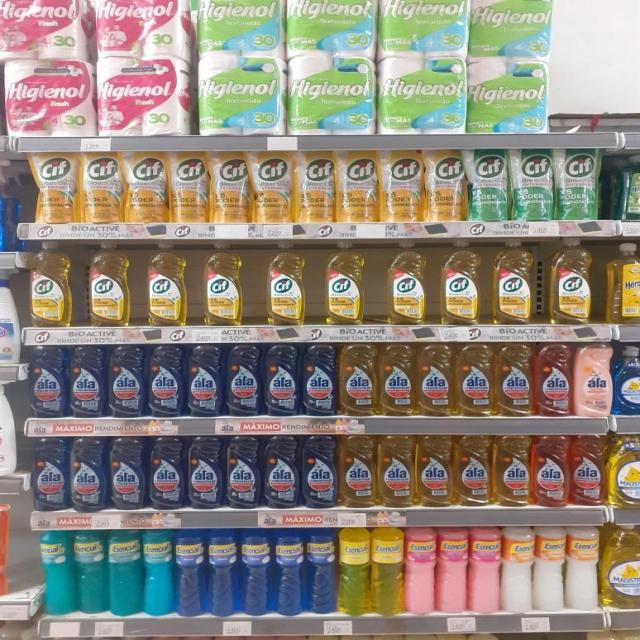ala_conc_amarillo: (416, 341, 454, 417), (456, 342, 494, 416), (339, 342, 377, 416), (454, 434, 492, 508), (378, 342, 415, 416), (339, 434, 376, 508), (496, 341, 532, 417), (378, 433, 414, 508), (494, 433, 530, 507), (417, 434, 453, 508)
ala_conc_azul: (186, 435, 224, 510), (70, 436, 107, 513), (186, 344, 224, 418), (263, 434, 300, 510), (29, 344, 67, 418), (108, 344, 146, 418), (32, 436, 69, 511), (148, 436, 185, 510), (225, 343, 262, 417), (148, 344, 185, 418), (301, 342, 337, 417), (301, 434, 337, 509), (69, 344, 105, 418), (110, 436, 146, 510), (226, 434, 261, 510), (264, 343, 299, 417)
ala_conc_rojo: (534, 341, 572, 417), (532, 434, 569, 508), (571, 433, 606, 507)
ala_crem_blanco: (566, 524, 600, 612)
ala_crem_rosado: (0, 491, 10, 602)
ala_ultra_rosa: (574, 341, 612, 417)
cif_conc_bot_amarilla: (547, 236, 594, 325), (491, 237, 537, 325), (28, 242, 74, 328), (439, 238, 483, 326), (88, 240, 132, 327), (386, 240, 429, 326), (200, 241, 243, 326), (265, 240, 307, 326), (146, 240, 188, 326), (325, 240, 365, 325)
cif_conc_sachet_amarillo: (33, 150, 77, 224), (79, 150, 122, 224), (336, 148, 378, 223), (380, 148, 422, 223), (124, 150, 166, 224), (251, 149, 292, 224), (294, 148, 334, 224), (425, 148, 465, 222), (168, 150, 208, 224), (210, 150, 249, 224)
cif_conc_sachet_verde: (556, 147, 602, 220), (511, 147, 554, 221), (468, 148, 509, 222)
esencial: (108, 528, 142, 617), (272, 528, 306, 616), (40, 528, 74, 616), (371, 526, 404, 616), (174, 528, 207, 617), (207, 528, 240, 617), (338, 527, 371, 615), (469, 526, 502, 614), (240, 528, 272, 616), (143, 528, 174, 617), (305, 528, 337, 614), (405, 527, 436, 615), (437, 526, 468, 614), (534, 525, 565, 613), (502, 526, 533, 614), (75, 528, 106, 616)
heroe: (0, 618, 22, 639)
magistral_con_amarillo: (602, 524, 640, 610), (608, 433, 640, 508)
magistral_con_azul: (613, 345, 640, 415)
